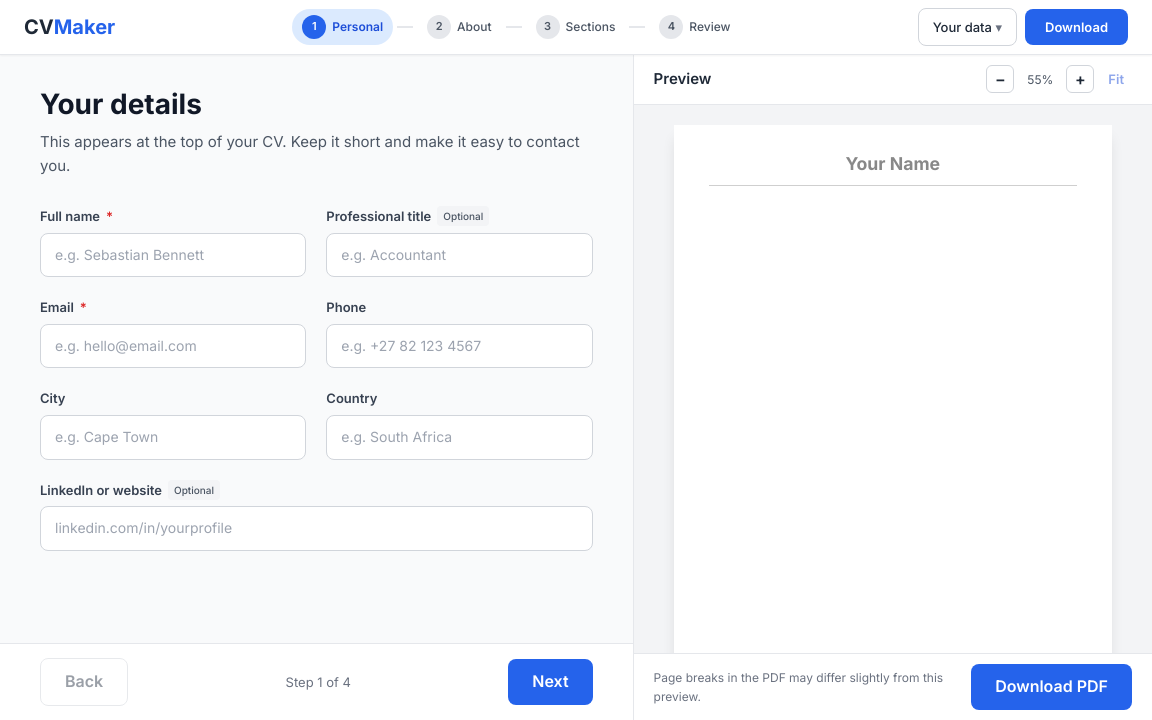
App › shows typed details in the live preview
The image size is (1152, 720).
Type "Ada Lovelace" into the field labelled "Full name *" at (173, 255), box [40,233,306,277]
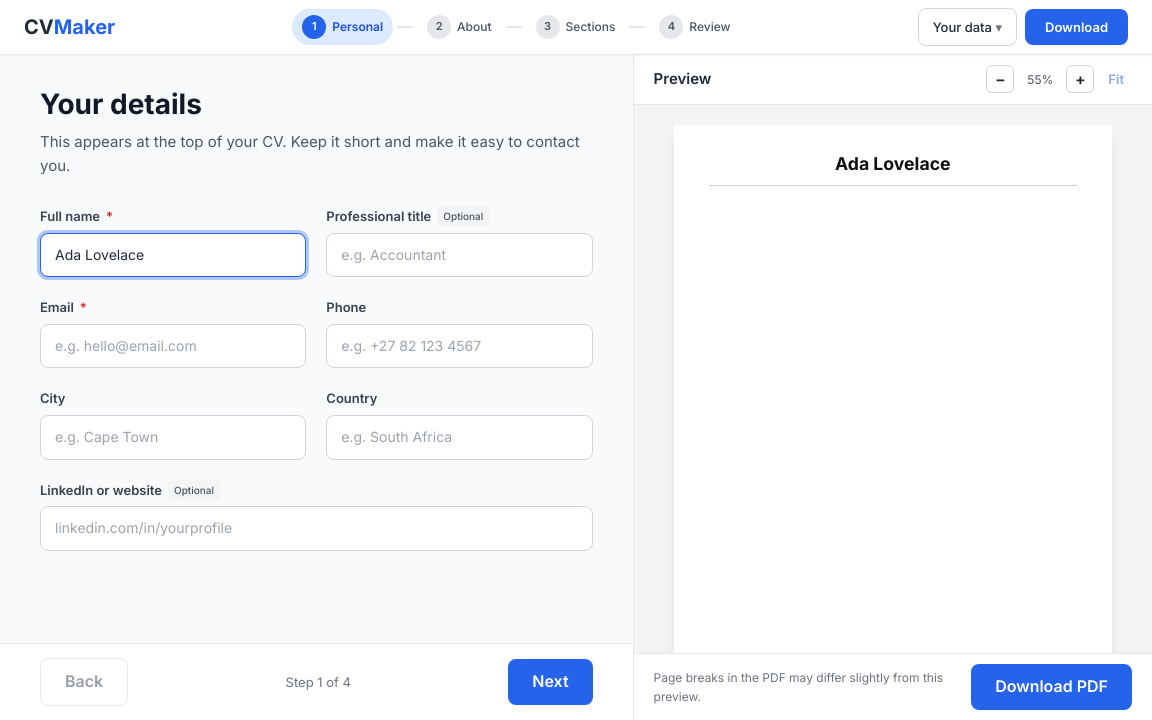
Expected: the heading "Ada Lovelace" is shown, [835,153,951,174]
